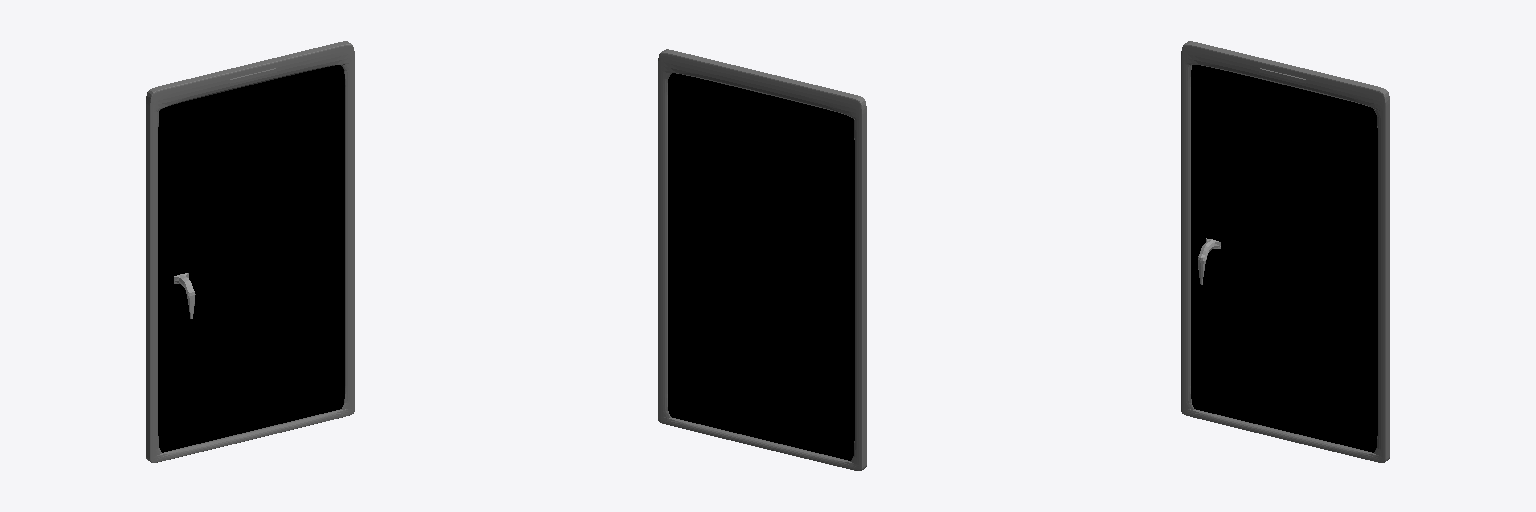
File: door.obj
3 renders of one model, left to right at view 1: azimuth 30°, elevation 25°; view 2: azimuth 150°, elevation 25°; view 3: azimuth 330°, elevation 25°, orthographic.
Parts seen in each view (by area): view 1: polySurface4, polySurface3 ac:Mesh; view 2: polySurface4, polySurface3 ac:Mesh; view 3: polySurface4, polySurface3 ac:Mesh.
Boxes of the visible parts, x1=… form: polySurface4: x1=158, y1=65, x2=344, y2=452; polySurface3 ac:Mesh: x1=146, y1=41, x2=354, y2=462; polySurface4: x1=668, y1=73, x2=854, y2=460; polySurface3 ac:Mesh: x1=658, y1=49, x2=866, y2=470; polySurface4: x1=1191, y1=65, x2=1377, y2=452; polySurface3 ac:Mesh: x1=1181, y1=41, x2=1389, y2=462.
Size of the model in its own units: 5.66 by 9.83 by 0.7708.